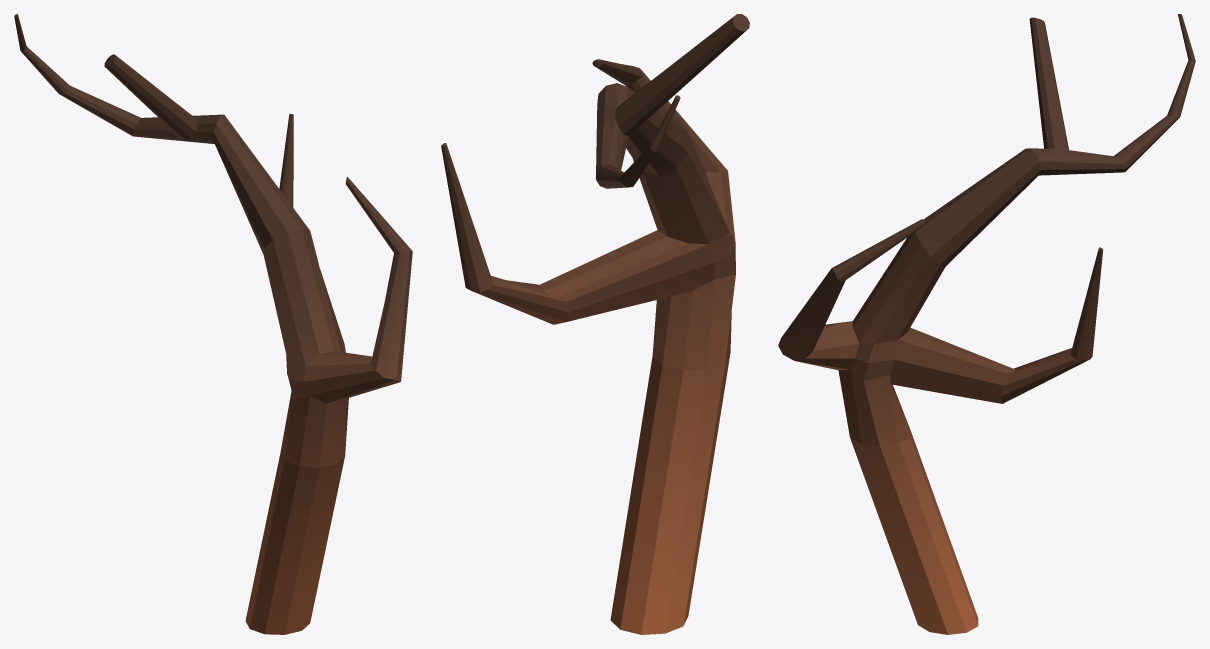
File: ramas2.fbx
3 renders of one model, left to right at view 1: azimuth 30°, elevation 25°; view 2: azimuth 150°, elevation 25°; view 3: azimuth 270°, elevation 25°, orthographic. The views are drawn at different scales.
Visible parts, largest first — view 1: ramas2; view 2: ramas2; view 3: ramas2.
Boxes of the visible parts, x1,y1,x2,y2 form: ramas2: [14, 14, 412, 634]; ramas2: [441, 14, 749, 634]; ramas2: [778, 14, 1195, 634].
Bounding box in the file's own units: 211 × 478 × 330.
